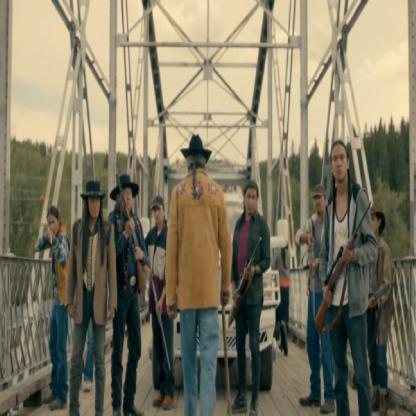Guns: (314, 185, 370, 337), (113, 170, 145, 300), (226, 232, 261, 323), (145, 257, 172, 373), (308, 210, 316, 327), (368, 280, 390, 310), (41, 219, 54, 250)
